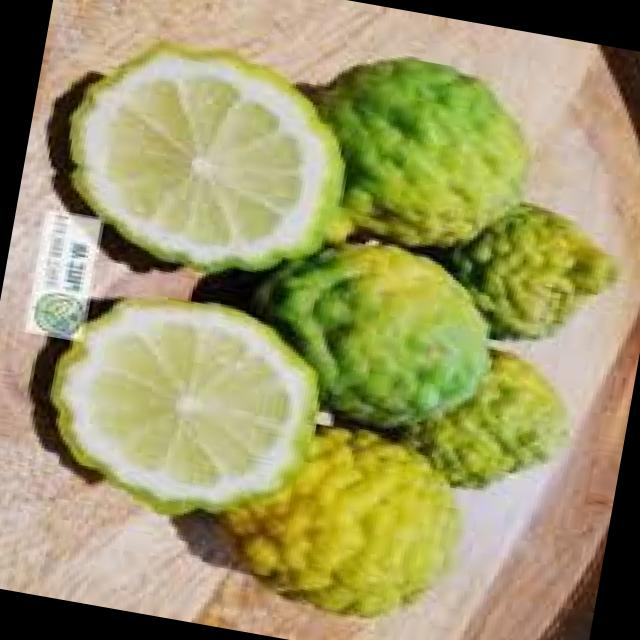Chuc: (45, 24, 367, 295), (32, 276, 336, 540), (202, 406, 478, 636), (238, 224, 510, 447), (289, 41, 546, 266), (432, 190, 632, 360), (392, 336, 587, 510)
